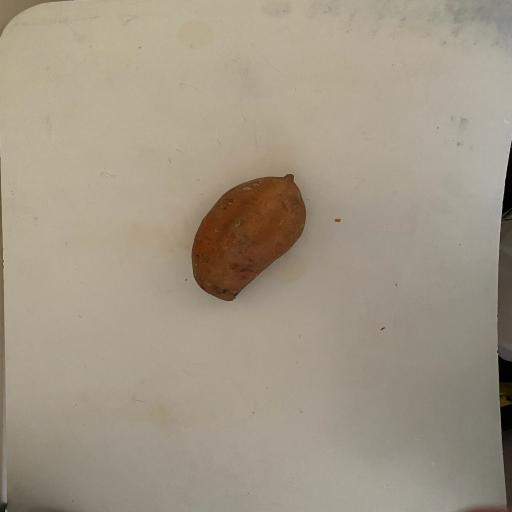sweet_potato: (173, 164, 326, 326)
